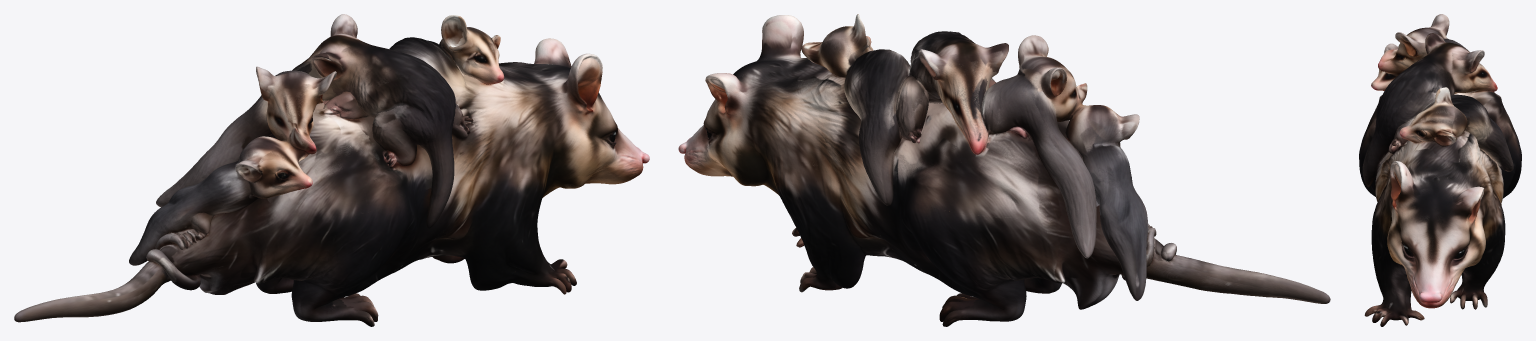
The model's file is Fcomadreja.glb.
The picture shows the model from 3 angles, left to right: view 1: azimuth 30°, elevation 25°; view 2: azimuth 150°, elevation 25°; view 3: azimuth 270°, elevation 25°; orthographic projection. The views are drawn at different scales.
Visible parts, largest first — view 1: tmpi6o4j20u.obj; view 2: tmpi6o4j20u.obj; view 3: tmpi6o4j20u.obj.
Boxes of the visible parts, box(x1,y1,x2,y2) form: tmpi6o4j20u.obj: box(14, 14, 649, 326); tmpi6o4j20u.obj: box(678, 14, 1330, 326); tmpi6o4j20u.obj: box(1359, 14, 1521, 326).
Bounding box in the file's own units: 1.7 × 0.6817 × 0.4749.
1 material, 1 textured.
